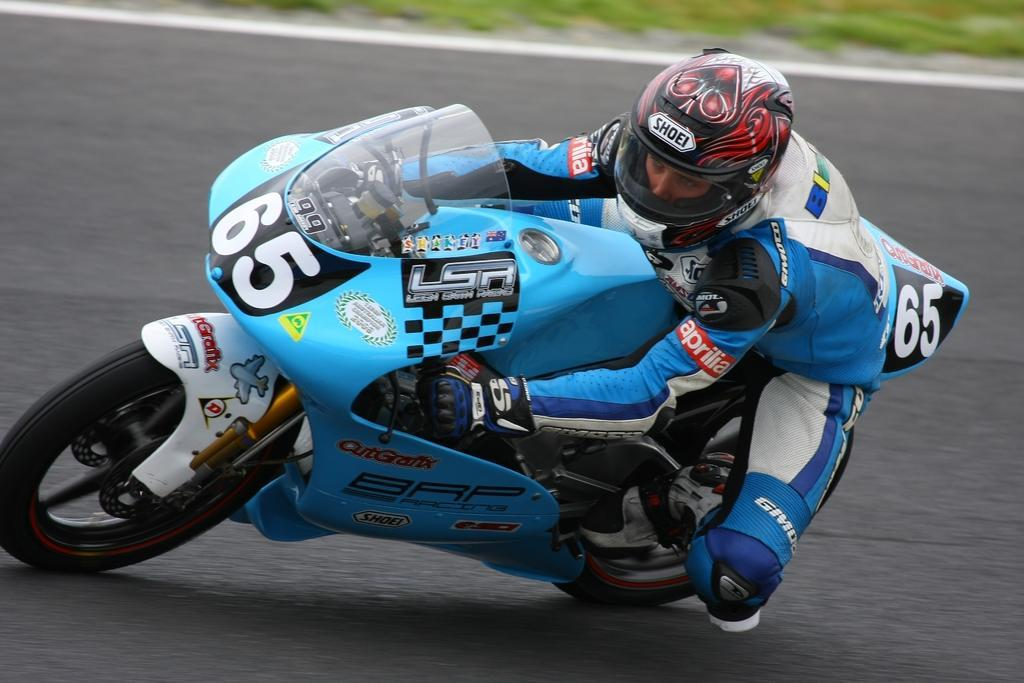helmet: (612, 46, 796, 253)
